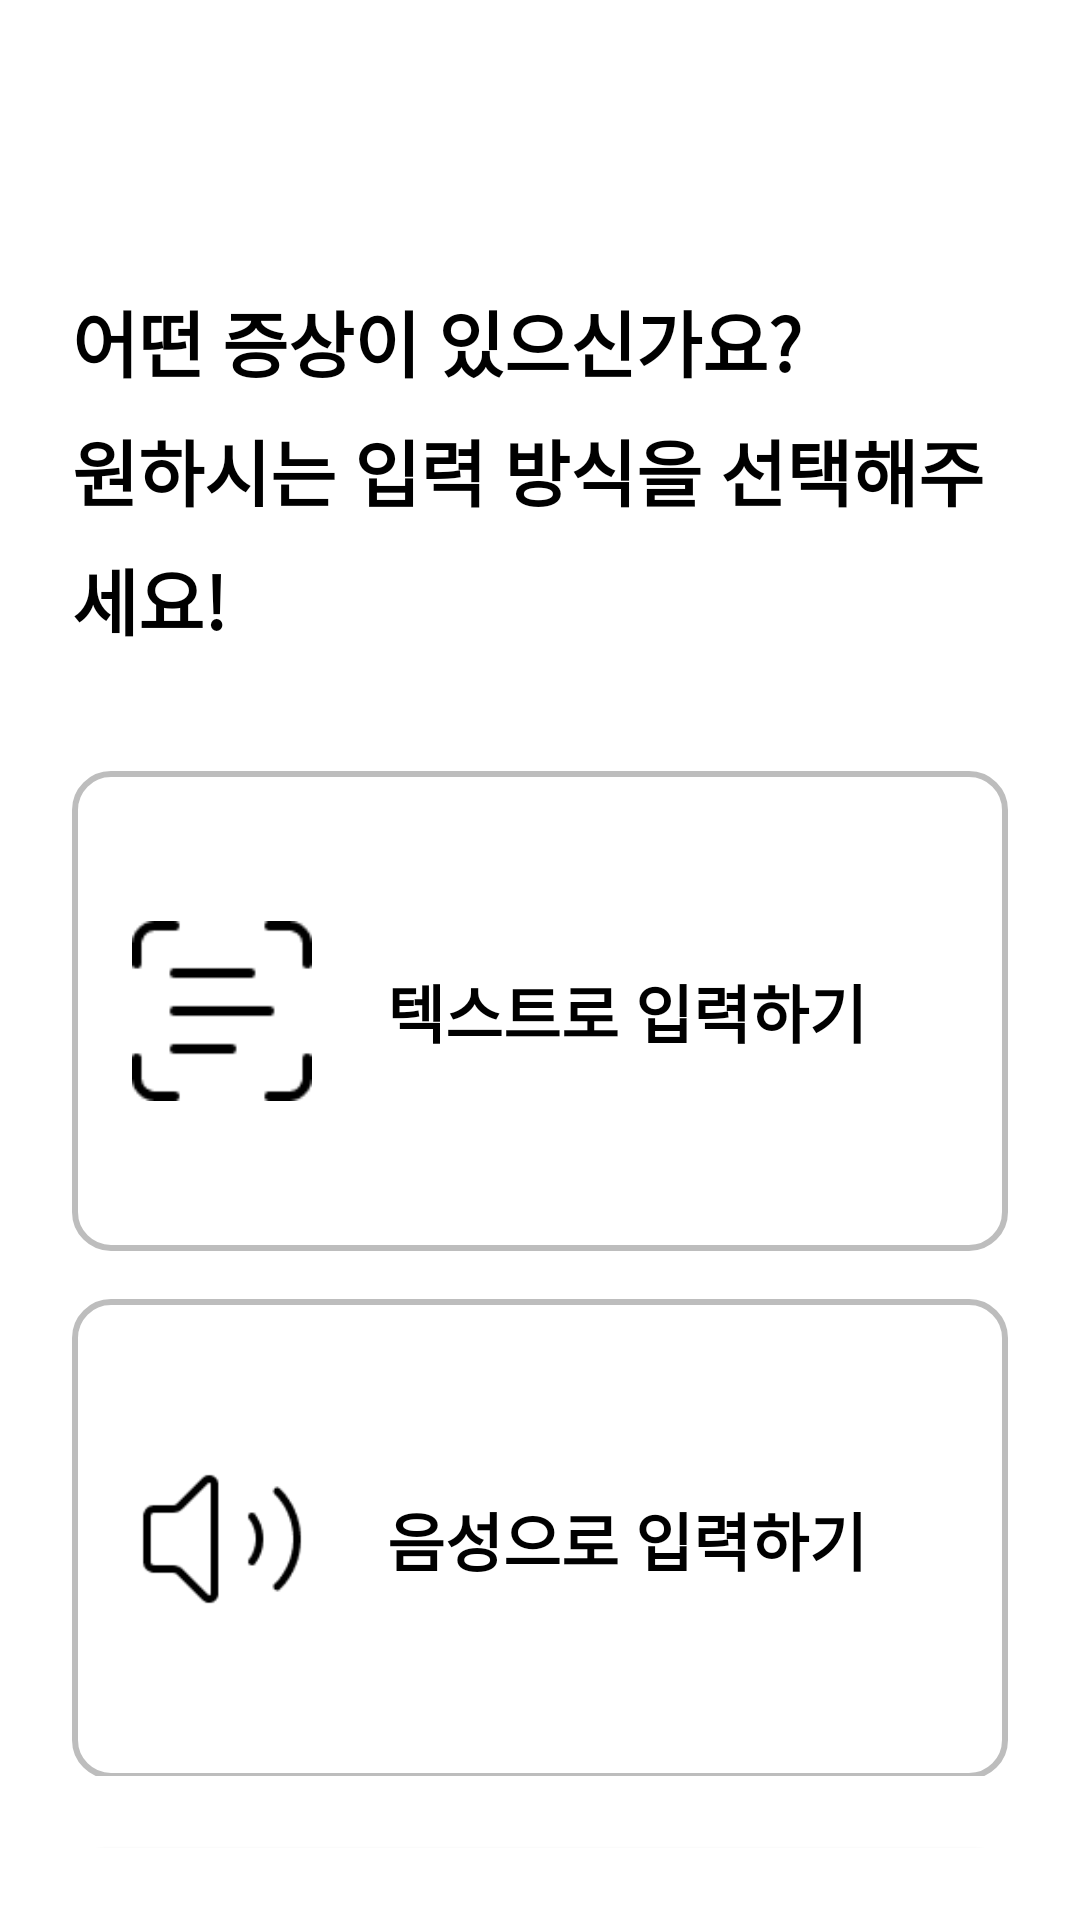

Icons on this 1080px x 1920px Android screen, each with its box as detection(x1, y1, x2, y2):
텍스트 입력: detection(132, 921, 312, 1101)
